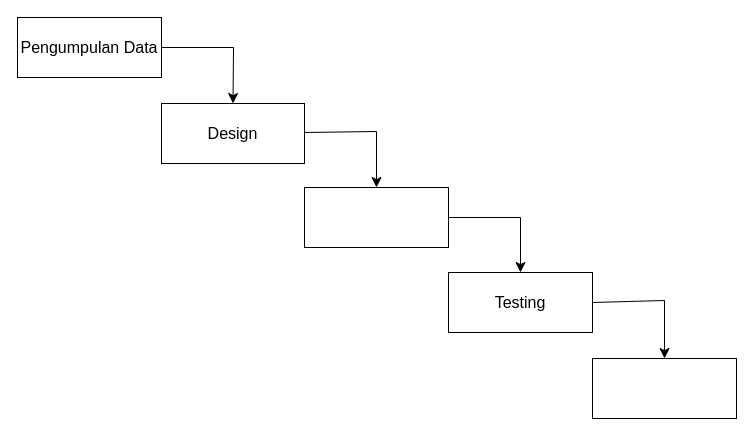
Some shapes in this 754 by 436 pixel diagram are drawn without their labels. Each missing label, with the centre of its shape:
Implementation: the point at 376,217
Maintenance: the point at 664,388
